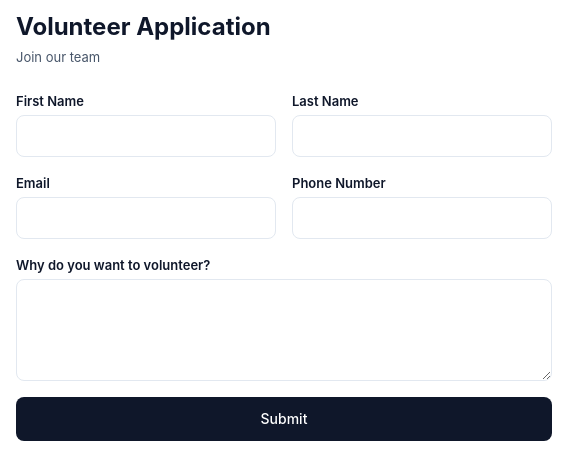
Test case: submits when valid, shows loading message when pending, created correct payload
Type "Bob" into the field labelled "First Name" at (146, 136), box [16,115,276,157]
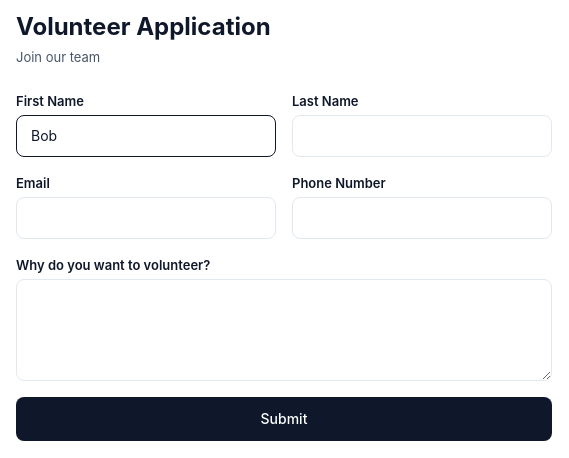
Type "Vladmir" into the field labelled "Last Name" at (422, 136), box [292,115,552,157]
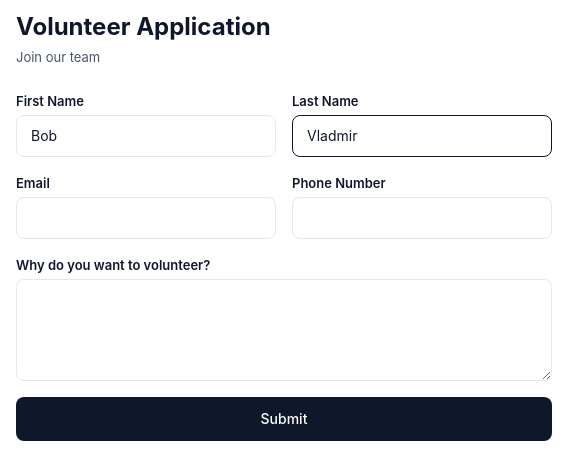
Type "edw22@gmail.com" into the field labelled "Email" at (146, 218), box [16,197,276,239]
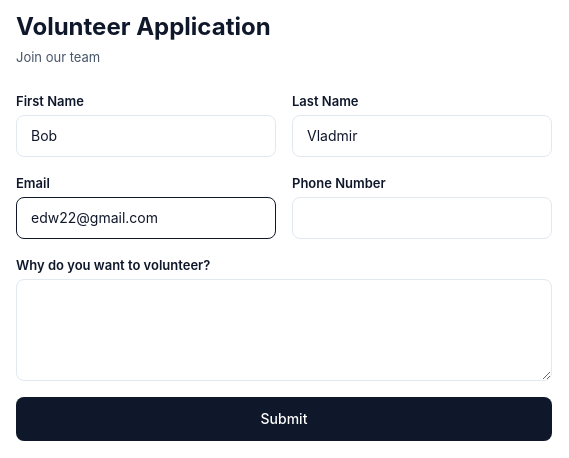
Type "(416) 622-6983" into the field labelled "Phone Number" at (422, 218), box [292,197,552,239]
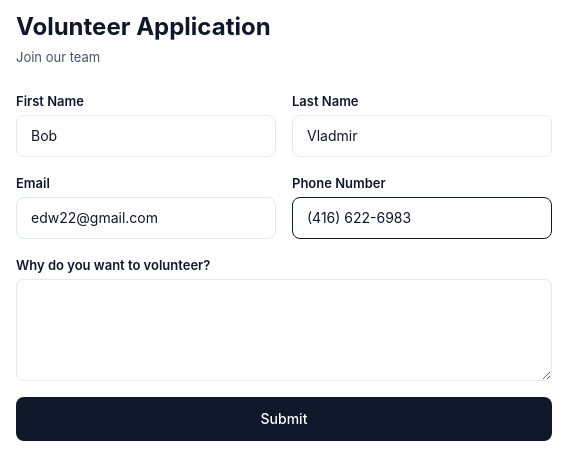
Type "i want to help" into the text box labelled "Why do you want to volunteer?" at (284, 330), box [16,279,552,381]
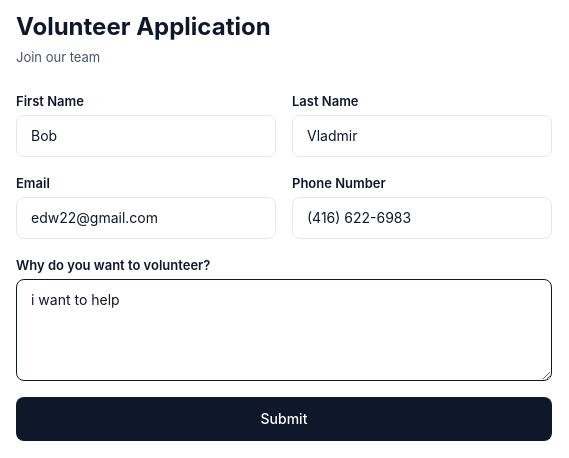
Click the button "Submit" at (284, 419), box [16,397,552,441]
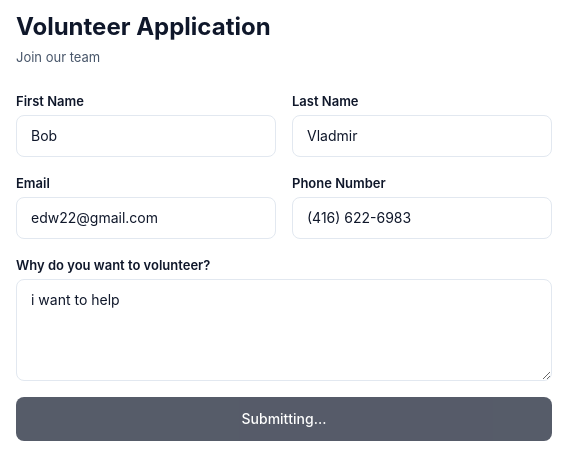
Expected: the button "Submitting..." is shown, [16,397,552,441]
